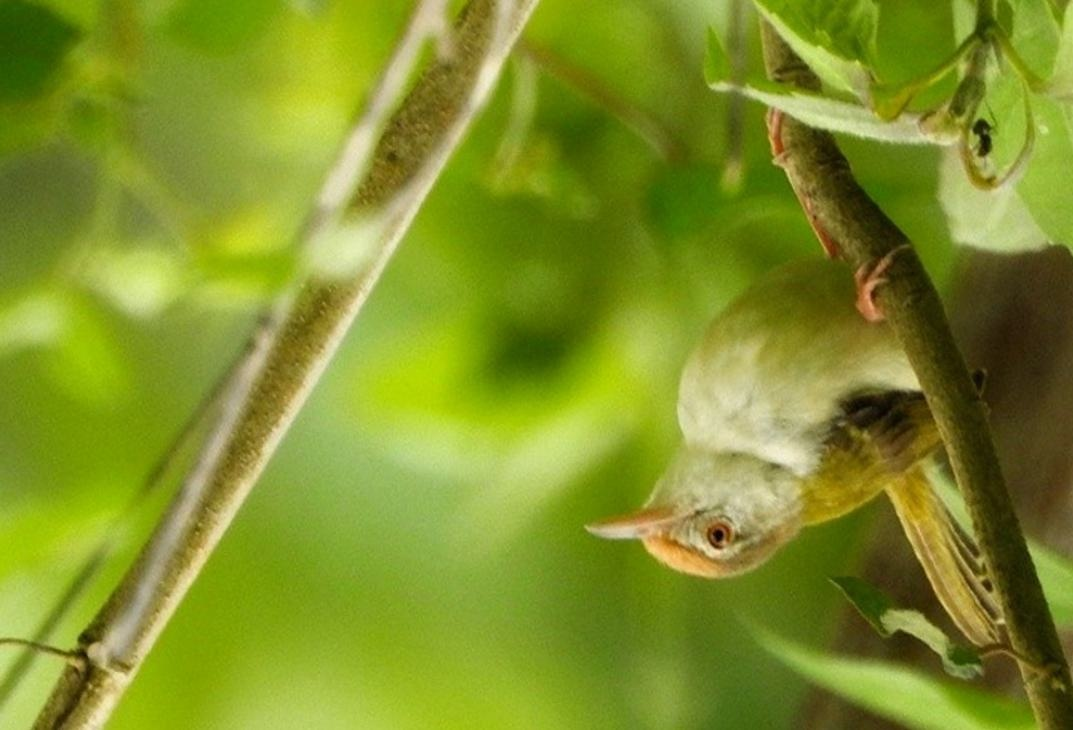tailorbird: (581, 224, 966, 616)
